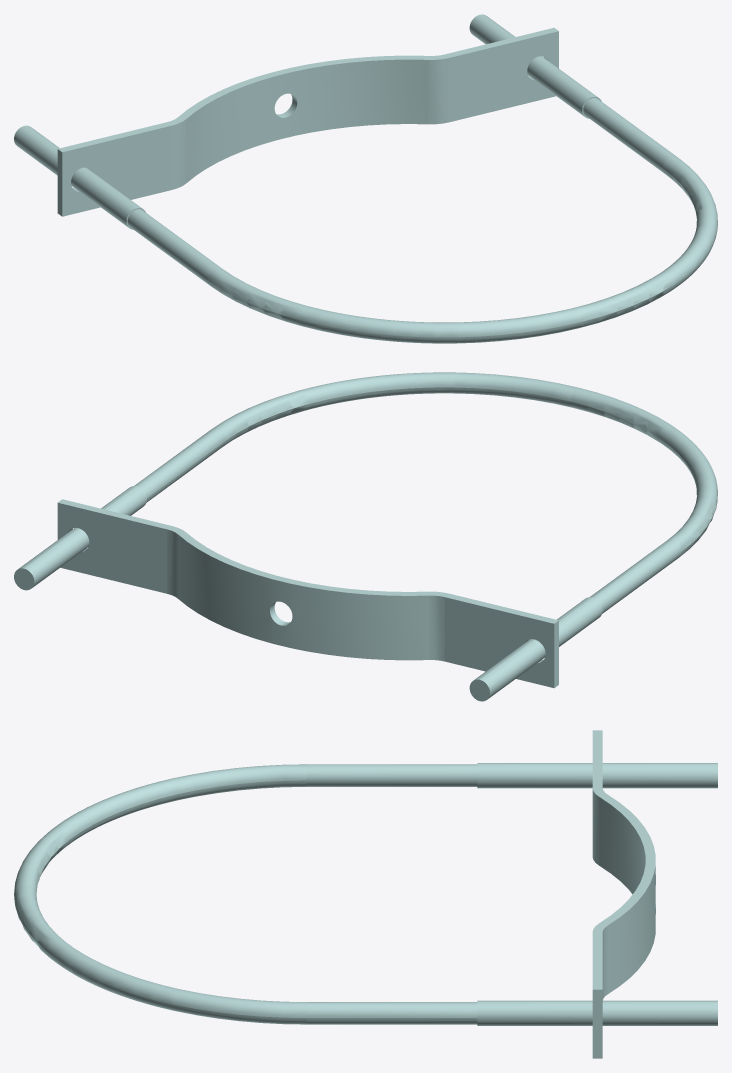
3 renders of one model, top to bottom at view 1: azimuth 30°, elevation 25°; view 2: azimuth 150°, elevation 25°; view 3: azimuth 270°, elevation 25°, orthographic. The views are drawn at different scales.
Size of the model in its own units: 242 by 30 by 278.
